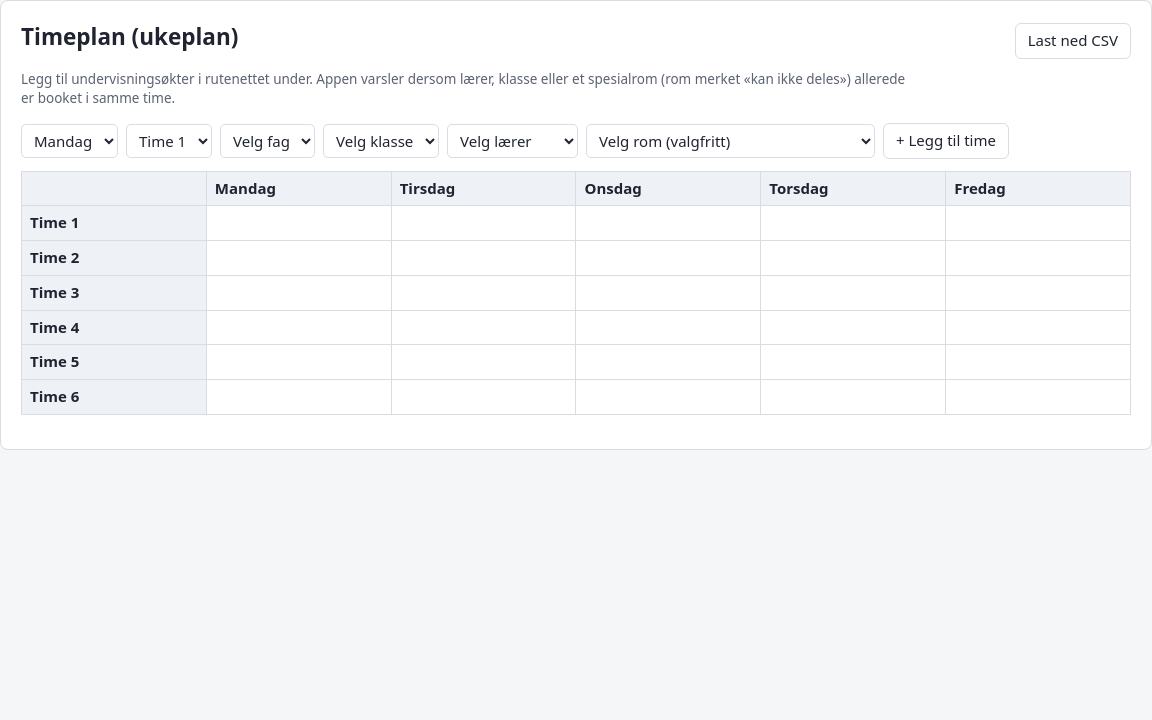
it: TimeplanPanel › sletter en oppføring
Select "Norsk" in the 3rd dropdown at (268, 141), box [220,124,315,158]
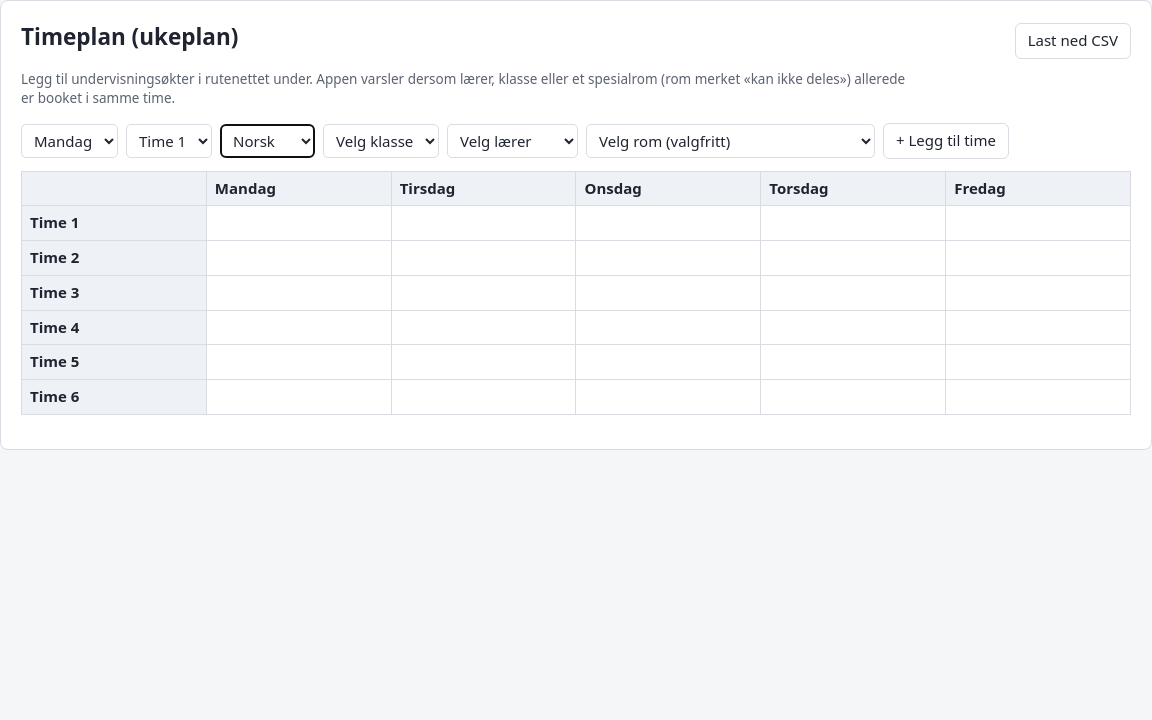
Select "1A" in the 4th dropdown at (381, 141), box [323,124,439,158]
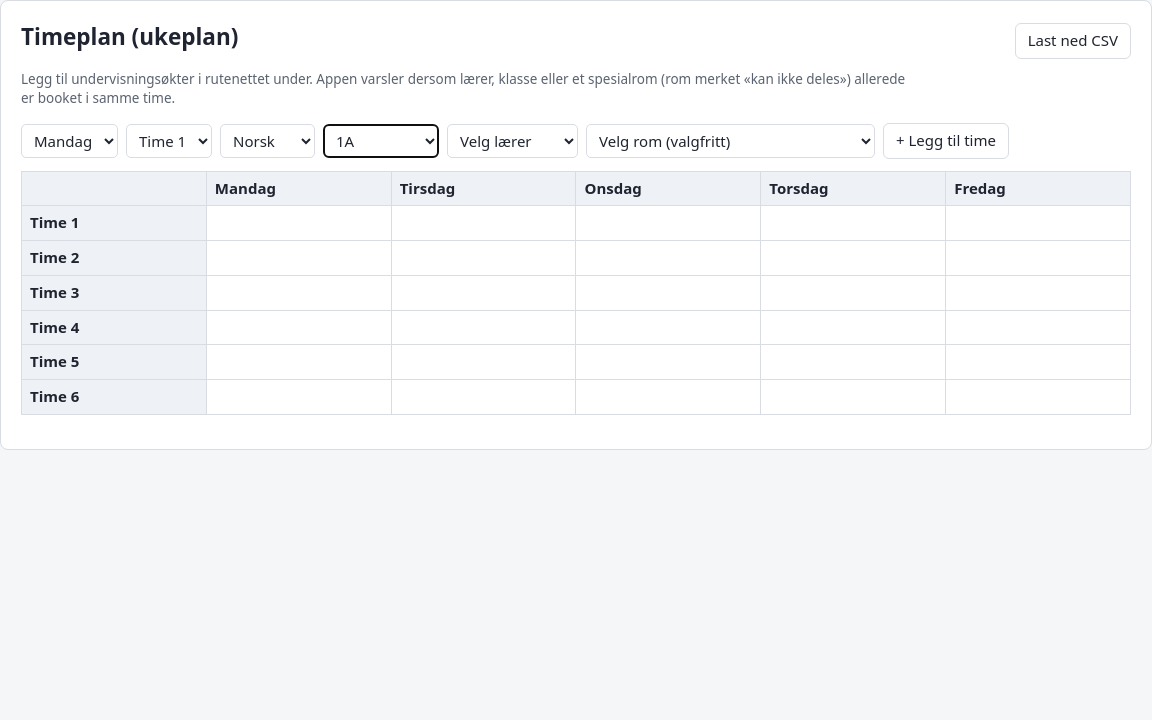
Select "Lærer Larsen" in the 5th dropdown at (512, 141), box [447,124,578,158]
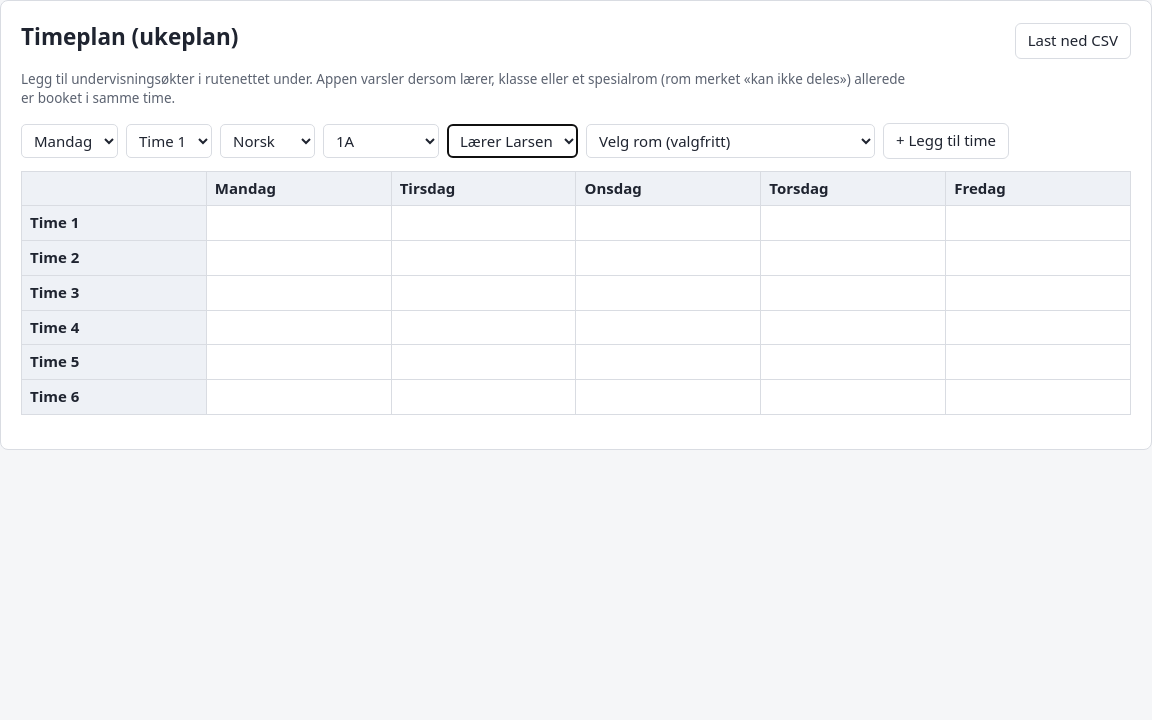
Click the button "+ Legg til time".
click(946, 141)  # box [883,123,1009,159]
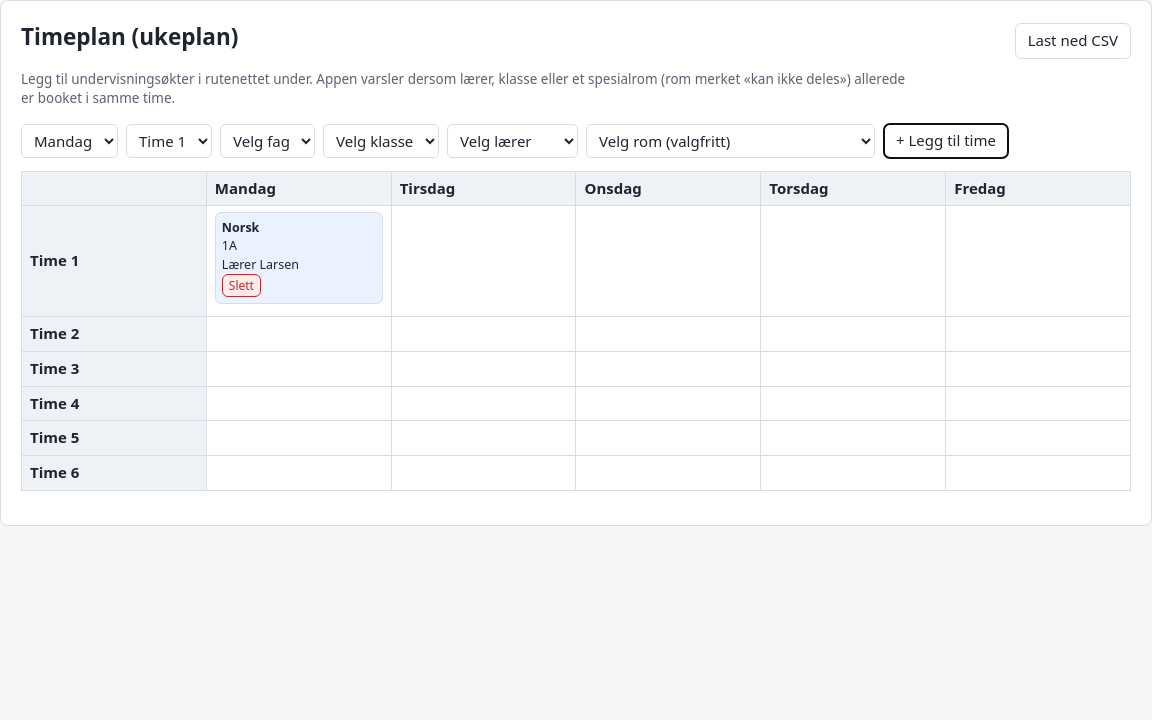
Click the button "Slett".
click(241, 285)  # box [222,274,261,297]
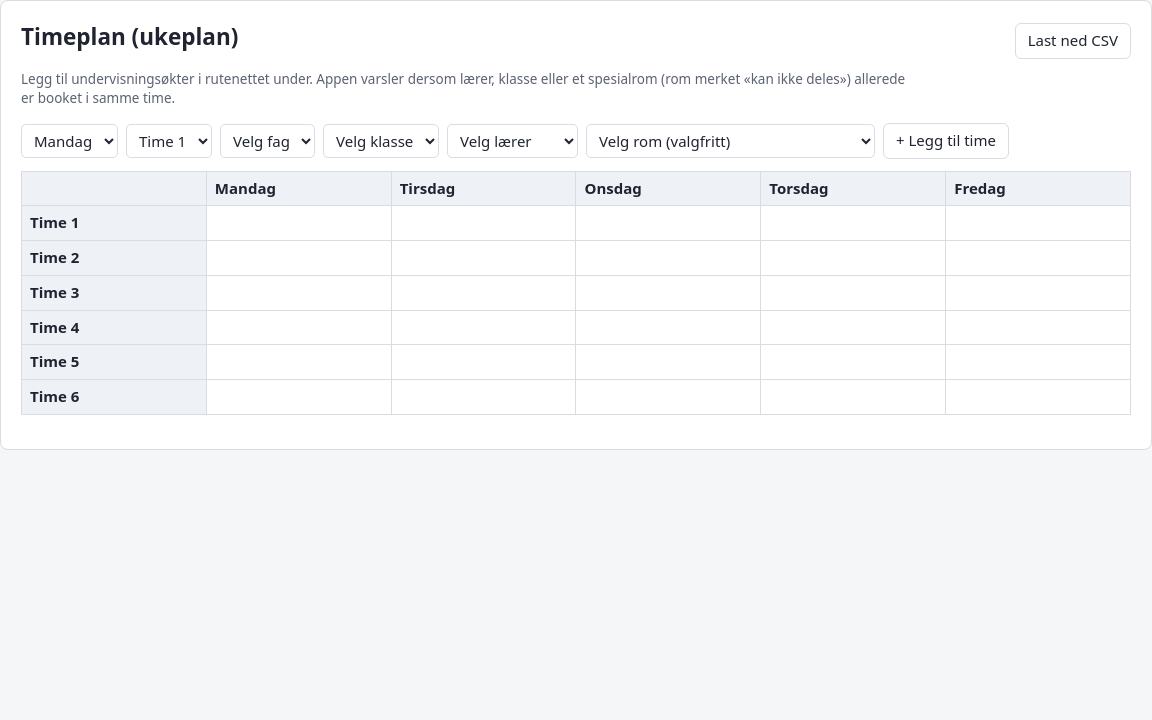
Check: the text "Norsk" is gone
